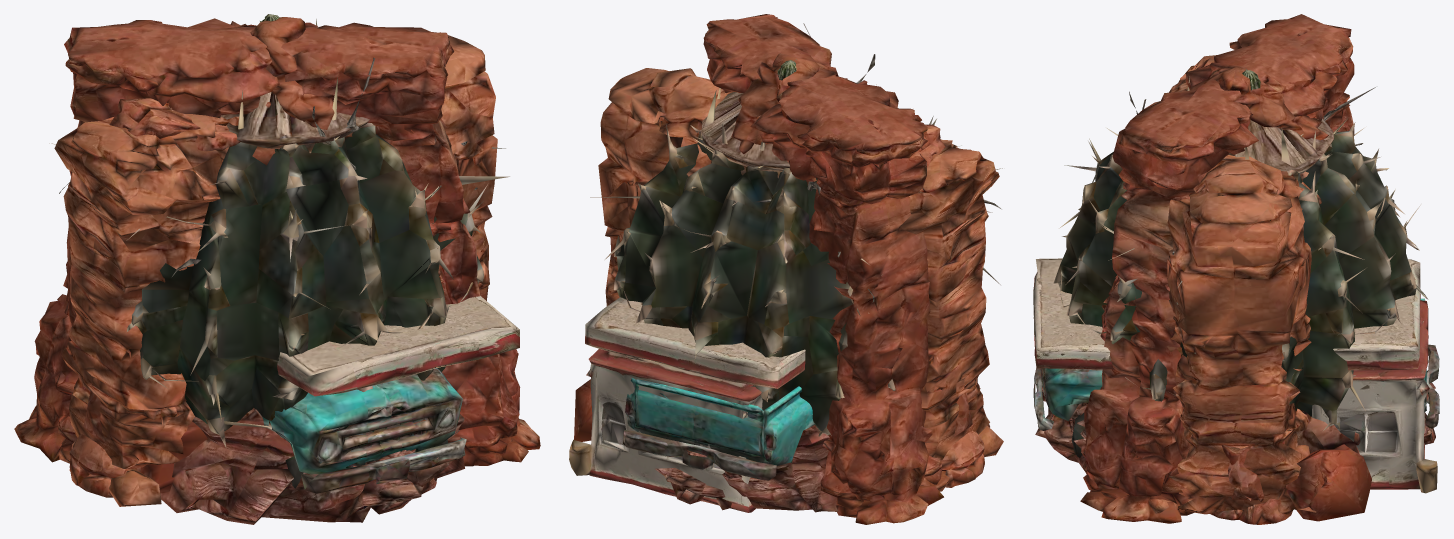
File: canyon.glb
3 views of the same model, side by side, from view 1: azimuth 30°, elevation 25°; view 2: azimuth 150°, elevation 25°; view 3: azimuth 270°, elevation 25° (orthographic). The views are drawn at different scales.
Visible parts, largest first — view 1: barrel_cactus, canyon_wall_b, canyon_wall_a, pickup, mesa, gas_station, stone_arch, rock_spire, water_tower, desert_rock, dead_tree; view 2: canyon_wall_b, barrel_cactus, canyon_wall_a, gas_station, pickup, mesa, rock_spire, stone_arch, water_tower, desert_rock; view 3: canyon_wall_b, canyon_wall_a, barrel_cactus, gas_station, desert_rock, pickup, mesa, rock_spire, water_tower, stone_arch.
Part boxes in pixels (<box>): barrel_cactus: <box>49,19,509,447</box>; canyon_wall_b: <box>14,18,540,466</box>; canyon_wall_a: <box>54,32,497,506</box>; pickup: <box>262,368,466,493</box>; mesa: <box>160,408,464,524</box>; gas_station: <box>277,296,519,396</box>; stone_arch: <box>69,98,240,497</box>; rock_spire: <box>250,17,334,129</box>; water_tower: <box>221,20,369,153</box>; desert_rock: <box>140,421,207,493</box>; dead_tree: <box>59,57,477,276</box>; canyon_wall_b: <box>703,14,943,524</box>; barrel_cactus: <box>590,79,1002,436</box>; canyon_wall_a: <box>598,68,1003,491</box>; gas_station: <box>569,297,805,512</box>; pickup: <box>623,378,815,480</box>; mesa: <box>654,383,989,512</box>; rock_spire: <box>731,53,838,154</box>; stone_arch: <box>918,124,984,487</box>; water_tower: <box>701,59,800,178</box>; desert_rock: <box>574,379,592,441</box>; canyon_wall_b: <box>1080,14,1354,523</box>; canyon_wall_a: <box>1148,55,1321,514</box>; barrel_cactus: <box>1053,76,1428,430</box>; gas_station: <box>1033,258,1437,493</box>; desert_rock: <box>1285,444,1371,521</box>; pickup: <box>1033,298,1439,457</box>; mesa: <box>1035,383,1435,470</box>; rock_spire: <box>1190,67,1328,140</box>; water_tower: <box>1228,71,1334,180</box>; stone_arch: <box>1195,58,1292,524</box>.
Bounding box in the file's own units: 0.9788 × 0.9816 × 0.9793.
12 materials, 12 textured.
